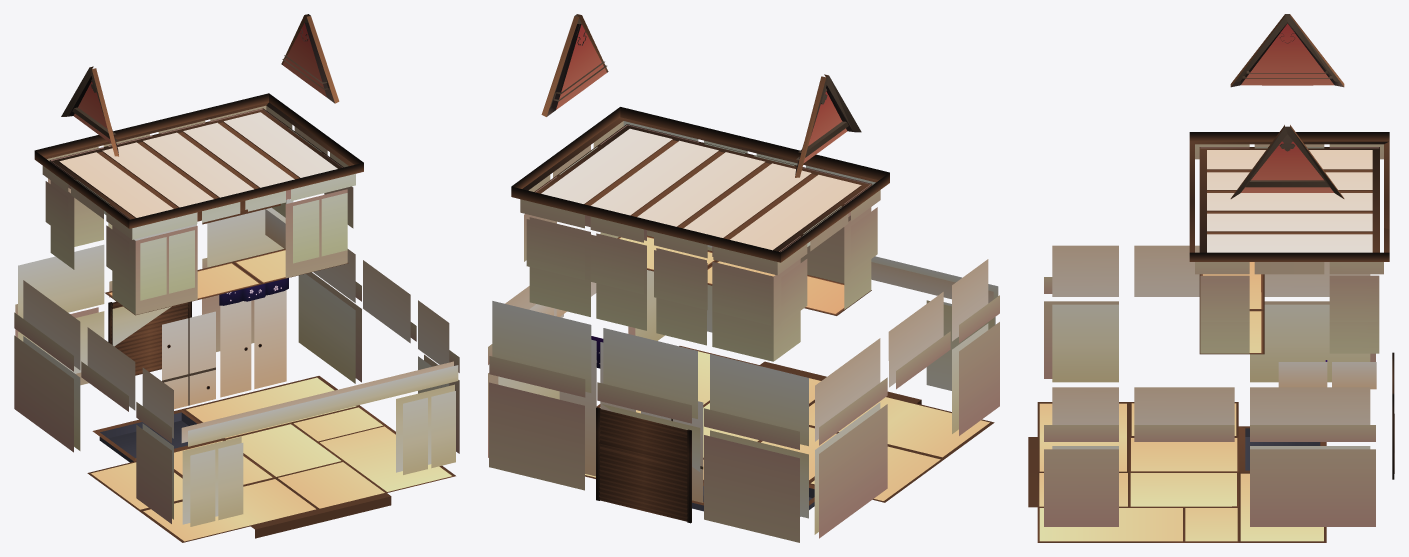
The model's file is SK_House_dadami_001.FBX.
3 views of the same model, side by side, from view 1: azimuth 30°, elevation 25°; view 2: azimuth 150°, elevation 25°; view 3: azimuth 270°, elevation 25° (orthographic). The views are drawn at different scales.
Parts seen in each view (by area): view 1: SK_House_dadami_001; view 2: SK_House_dadami_001; view 3: SK_House_dadami_001.
Boxes of the visible parts, <box> form: SK_House_dadami_001: <box>14,14,459,542</box>; SK_House_dadami_001: <box>488,14,999,542</box>; SK_House_dadami_001: <box>1028,14,1394,542</box>.
Bounding box in the file's own units: 704 × 912 × 736.
1 material, 1 textured.
